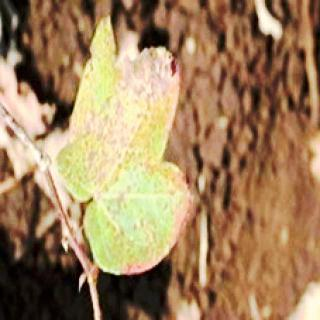leaf spot: (70, 23, 194, 287)
